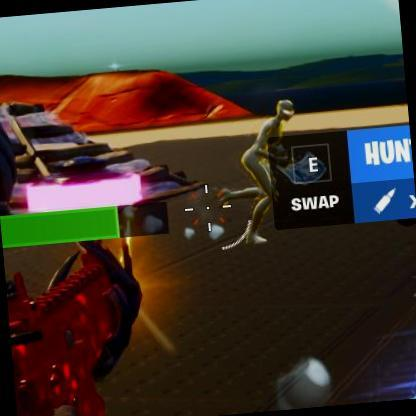person: (242, 92, 298, 260)
